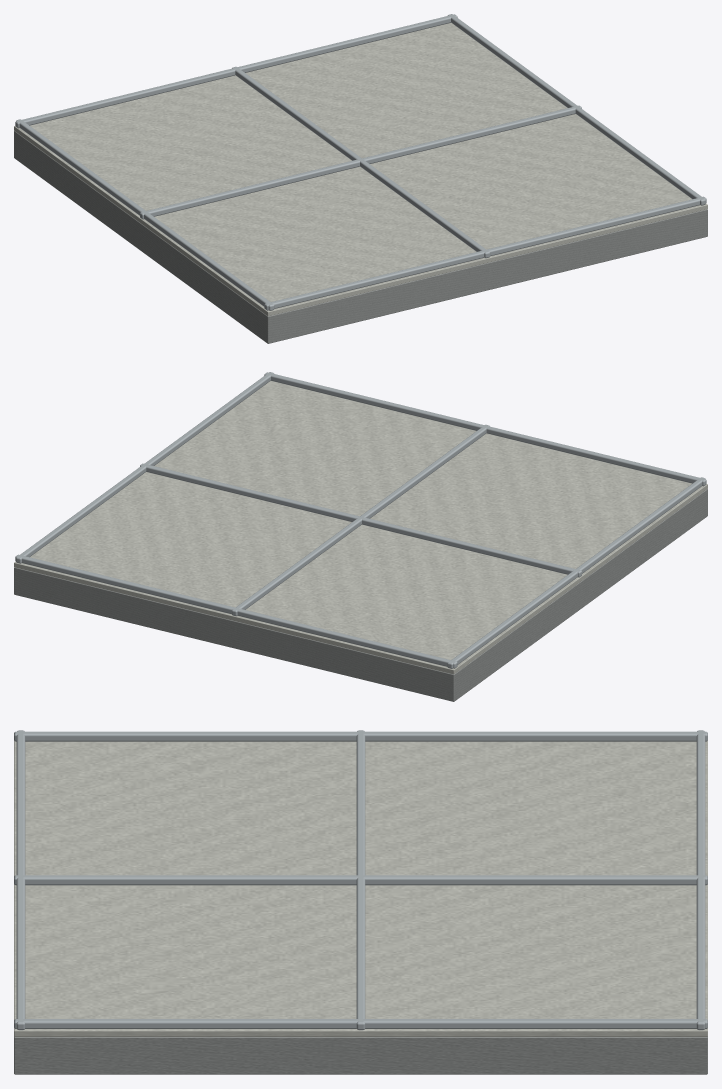
The model's file is liminal-spaces-kit-drop-ceiling-1804ae39__25251.glb.
3 views of the same model, one above another, from view 1: azimuth 30°, elevation 25°; view 2: azimuth 150°, elevation 25°; view 3: azimuth 270°, elevation 25° (orthographic). The views are drawn at different scales.
Parts seen in each view (by area): view 1: drop-ceiling; view 2: drop-ceiling; view 3: drop-ceiling.
Part boxes in pixels (x1=…): drop-ceiling: x1=14, y1=14, x2=707, y2=343; drop-ceiling: x1=14, y1=372, x2=707, y2=701; drop-ceiling: x1=14, y1=730, x2=707, y2=1074.
Bounding box in the file's own units: 2 × 0.1649 × 2.
Materials: 3 (2 with a texture image).
